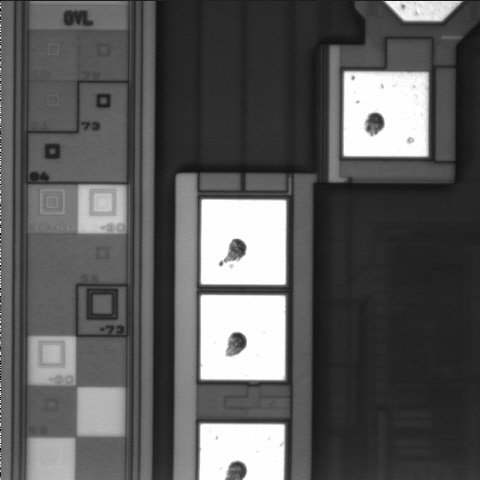pad: (201, 199, 286, 285), (344, 72, 428, 157), (201, 295, 285, 380)
